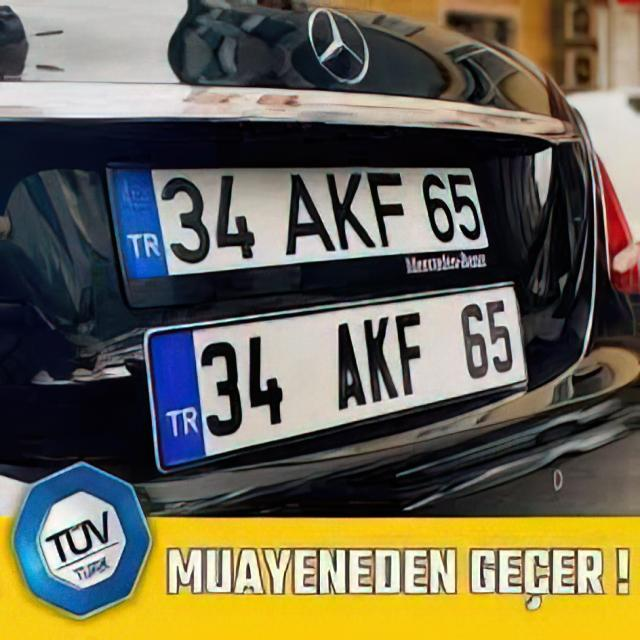plate: (146, 286, 526, 469), (105, 152, 505, 307)
